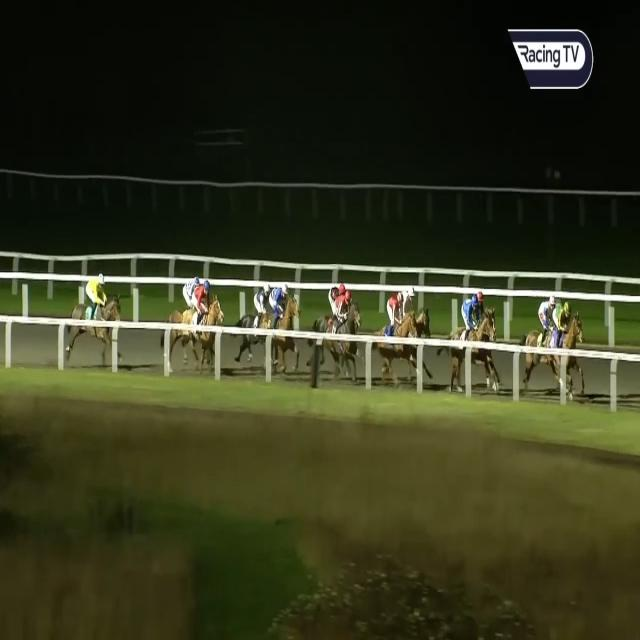horses-racing: (453, 293, 508, 398), (66, 269, 124, 359), (320, 288, 369, 376), (182, 276, 227, 369), (378, 291, 418, 382), (243, 284, 286, 359), (170, 270, 218, 336), (531, 302, 564, 392), (396, 284, 436, 339), (272, 280, 304, 348), (556, 294, 583, 360), (320, 276, 359, 318), (478, 291, 501, 345)
